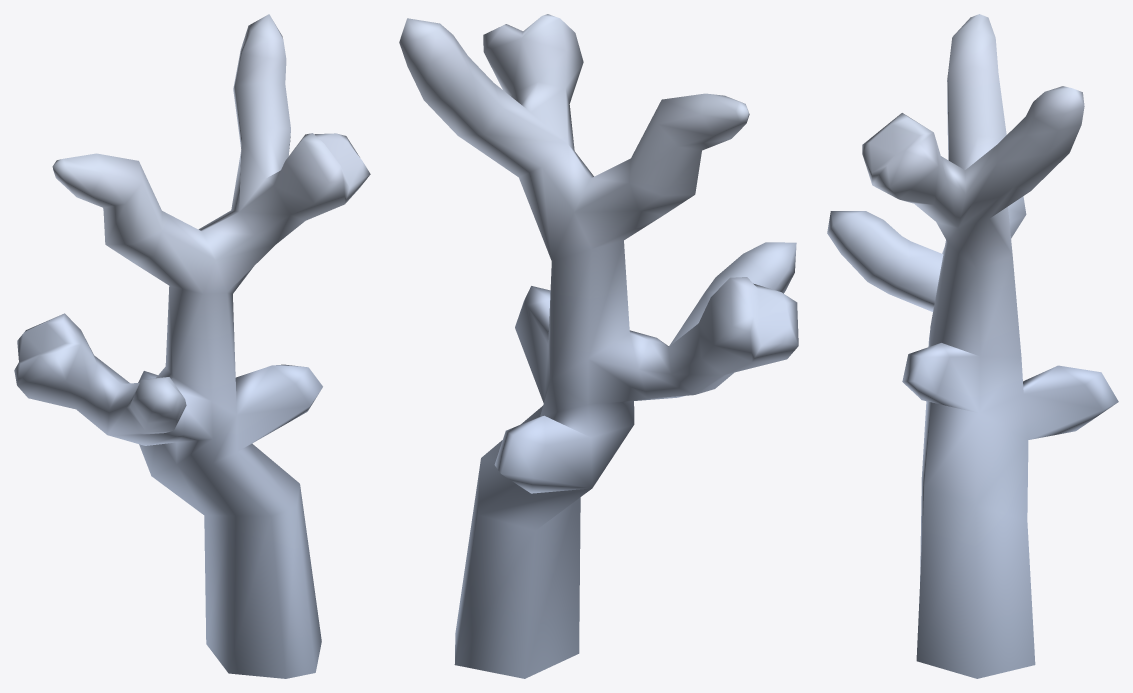
File: CoralMA.fbx
The picture shows the model from 3 angles, left to right: view 1: azimuth 30°, elevation 25°; view 2: azimuth 150°, elevation 25°; view 3: azimuth 270°, elevation 25°; orthographic projection. The views are drawn at different scales.
Visible parts, largest first — view 1: CoralMA; view 2: CoralMA; view 3: CoralMA.
Part boxes in pixels (bbox=[...]): CoralMA: bbox=[14, 14, 370, 678]; CoralMA: bbox=[399, 14, 798, 678]; CoralMA: bbox=[827, 14, 1118, 678].
Size of the model in its own units: 26.87 by 48.71 by 21.89.
1 material, 1 textured.
